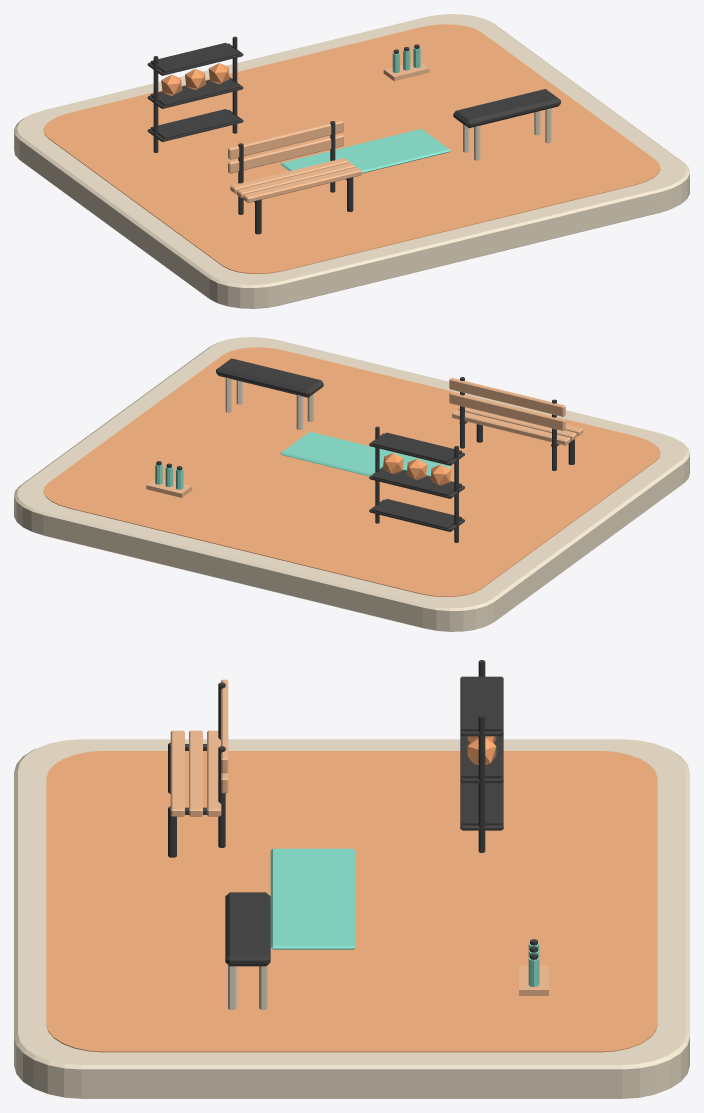
Rendered from room.fbx.
The picture shows the model from 3 angles, top to bottom: view 1: azimuth 30°, elevation 25°; view 2: azimuth 150°, elevation 25°; view 3: azimuth 270°, elevation 25°; orthographic projection. The views are drawn at different scales.
Visible parts, largest first — view 1: COM-02 Floor Surface, COM-01 Rounded Base Direct, Exercise mat, Cushion, Back slat, Back slat.001, Ball shelf, Ball shelf.002, Seat slat, Ball shelf.001, Seat slat.001, Seat slat.002 (+2 smaller); view 2: COM-02 Floor Surface, COM-01 Rounded Base Direct, Exercise mat, Cushion, Back slat, Back slat.001, Ball shelf.002, Ball shelf, Seat slat.002, Ball shelf.001, Seat slat.001, Tray (+1 smaller); view 3: COM-02 Floor Surface, COM-01 Rounded Base Direct, Exercise mat, Cushion, Ball shelf.002, Ball shelf, Seat slat, Seat slat.001, Seat slat.002, Frame.001, Ball shelf.001, Tray (+1 smaller).
Part boxes in pixels (left/top/right/bottom): COM-02 Floor Surface: left=43, top=24, right=660, bottom=273; COM-01 Rounded Base Direct: left=14, top=14, right=689, bottom=308; Exercise mat: left=280, top=129, right=450, bottom=173; Cushion: left=453, top=89, right=560, bottom=128; Back slat: left=228, top=134, right=343, bottom=173; Back slat.001: left=228, top=120, right=343, bottom=159; Ball shelf: left=150, top=109, right=240, bottom=139; Ball shelf.002: left=150, top=42, right=240, bottom=72; Seat slat: left=243, top=167, right=361, bottom=202; Ball shelf.001: left=150, top=79, right=240, bottom=106; Seat slat.001: left=236, top=162, right=355, bottom=198; Seat slat.002: left=230, top=158, right=348, bottom=193; COM-02 Floor Surface: left=43, top=347, right=660, bottom=596; COM-01 Rounded Base Direct: left=14, top=337, right=689, bottom=631; Exercise mat: left=280, top=432, right=450, bottom=476; Cushion: left=216, top=358, right=323, bottom=397; Back slat: left=449, top=392, right=565, bottom=430; Back slat.001: left=449, top=378, right=565, bottom=416; Ball shelf.002: left=372, top=432, right=461, bottom=462; Ball shelf: left=372, top=499, right=461, bottom=528; Seat slat.002: left=452, top=410, right=570, bottom=445; Ball shelf.001: left=372, top=469, right=461, bottom=495; Seat slat.001: left=458, top=407, right=576, bottom=440; Tray: left=146, top=479, right=192, bottom=497; COM-02 Floor Surface: left=46, top=751, right=657, bottom=1052; COM-01 Rounded Base Direct: left=14, top=739, right=689, bottom=1098; Exercise mat: left=270, top=848, right=355, bottom=949; Cushion: left=225, top=892, right=270, bottom=966; Ball shelf.002: left=461, top=676, right=502, bottom=731; Ball shelf: left=461, top=782, right=502, bottom=825; Seat slat: left=170, top=730, right=184, bottom=816; Seat slat.001: left=189, top=730, right=202, bottom=816; Seat slat.002: left=207, top=730, right=221, bottom=816; Frame.001: left=478, top=715, right=485, bottom=852; Ball shelf.001: left=461, top=735, right=502, bottom=778; Tray: left=519, top=965, right=548, bottom=995.
Size of the model in its own units: 600 by 145 by 520.
